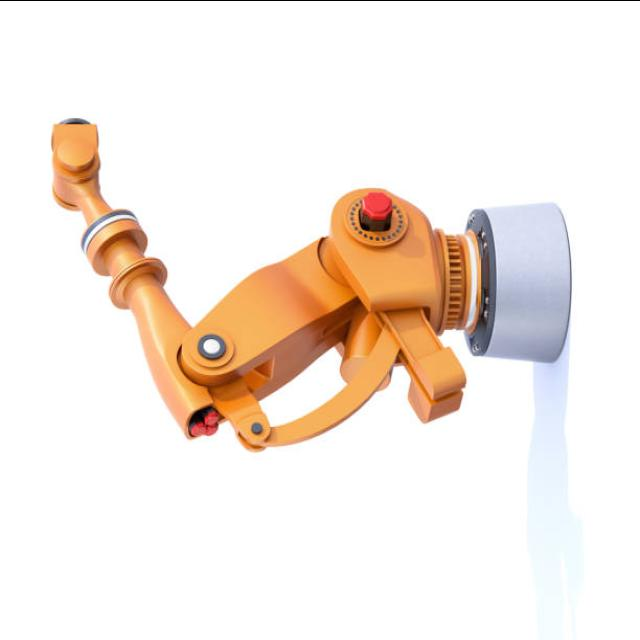Robotic-arm: (38, 95, 578, 460)
